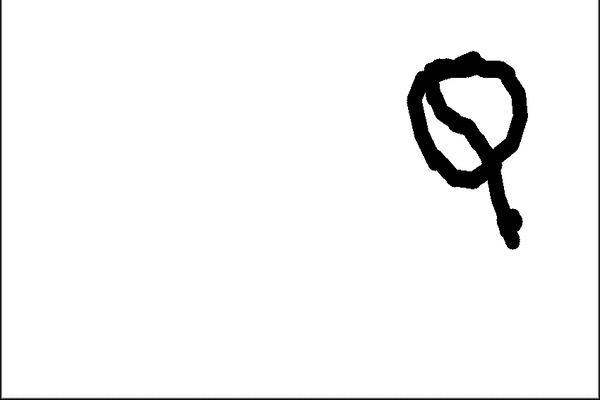Q: (399, 42, 530, 250)
